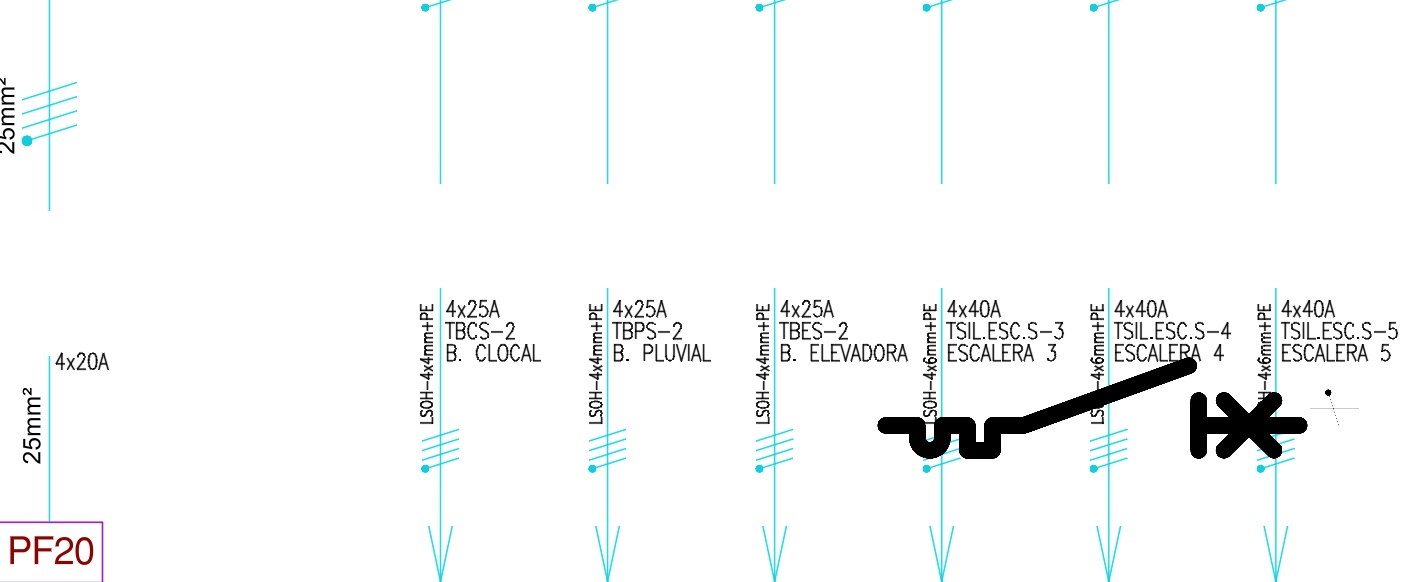interruptor_termomagnetico: (875, 355, 1310, 461)
